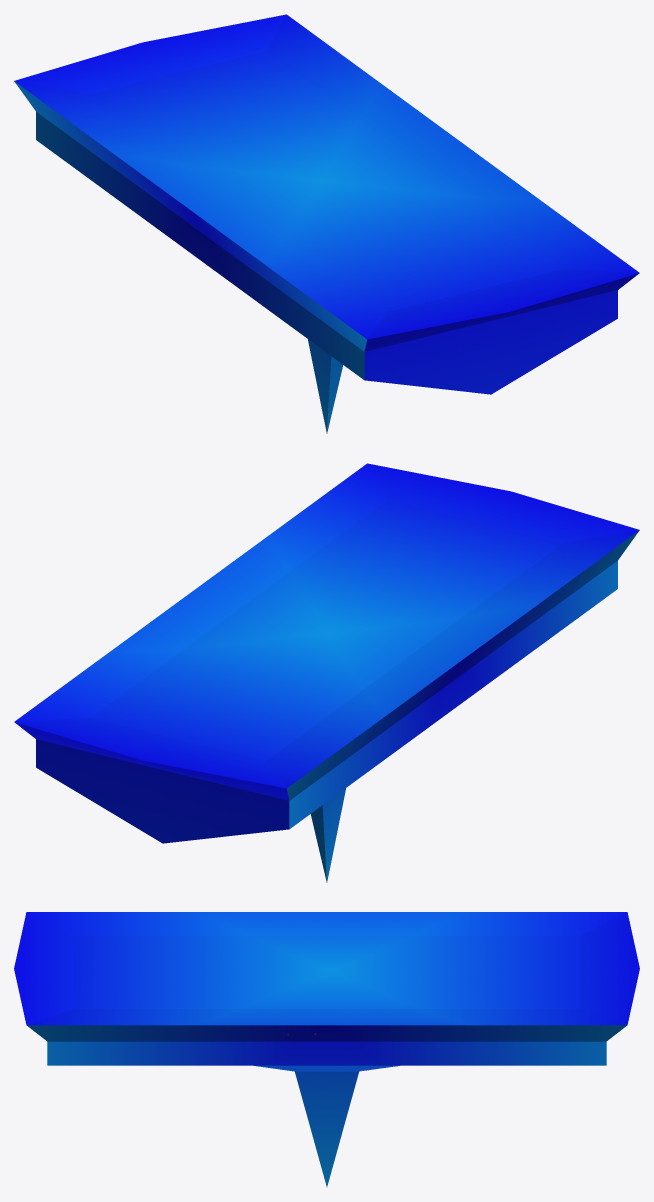
The model's file is map.fbx.
The picture shows the model from 3 angles, top to bottom: view 1: azimuth 30°, elevation 25°; view 2: azimuth 150°, elevation 25°; view 3: azimuth 270°, elevation 25°; orthographic projection. The views are drawn at different scales.
Parts seen in each view (by area): view 1: Cube; view 2: Cube; view 3: Cube.
Boxes of the visible parts, left/top/right/bottom form: Cube: left=14, top=14, right=639, bottom=433; Cube: left=14, top=463, right=639, bottom=882; Cube: left=14, top=912, right=639, bottom=1186.
Size of the model in its own units: 2.82 by 2.55 by 6.59.
1 material, 1 textured.
